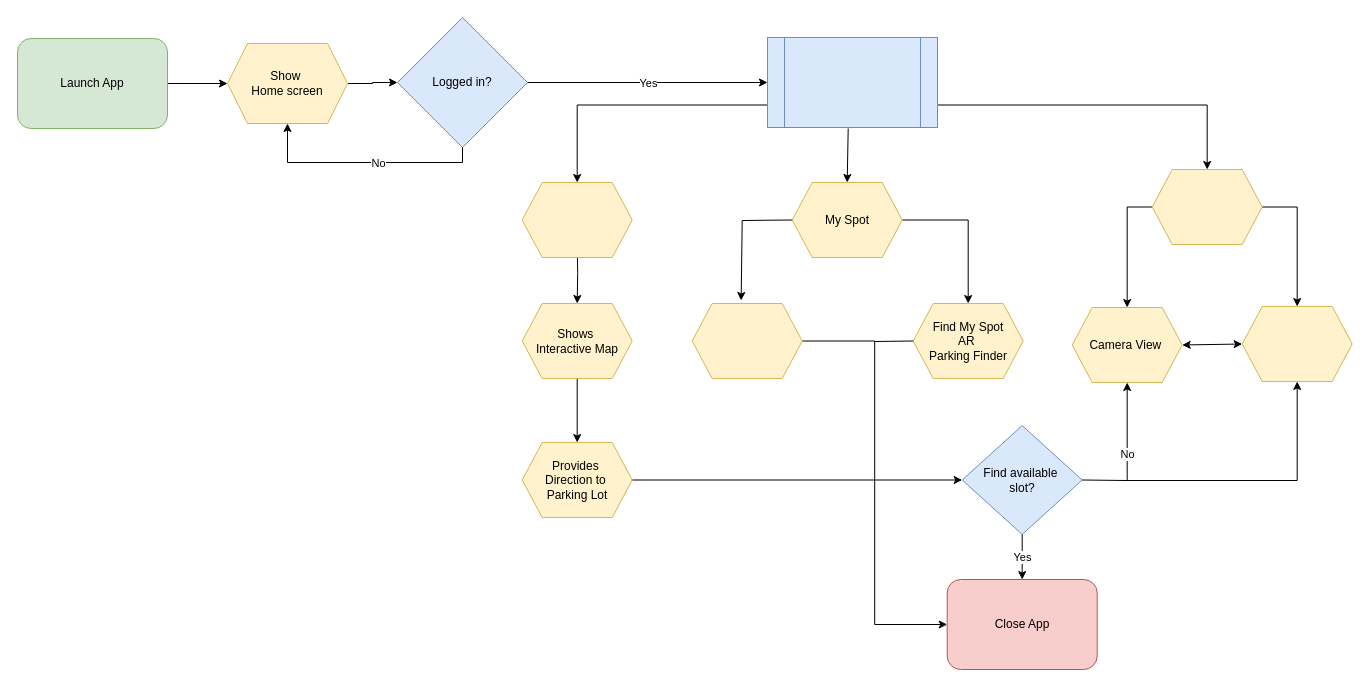
Image size: 1370x687. Some labels were removed from this diagram. Here are the shapes that lost their labels. From the top down, the centre of each, then its label:
At point (852, 82): "Select Feature".
At point (576, 220): "Find Parking".
At point (1206, 206): "Live View".
At point (746, 340): "Save My Spot (location save)".
At point (1296, 344): "Free Slots View (green bounding box)".
